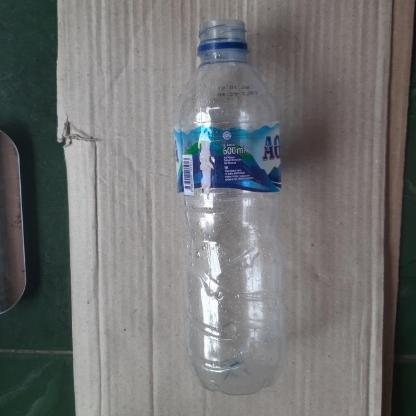Plastic Bottle: (174, 19, 282, 396)
